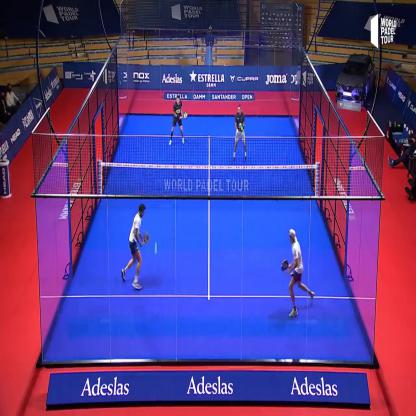ball: (152, 240, 160, 256)
